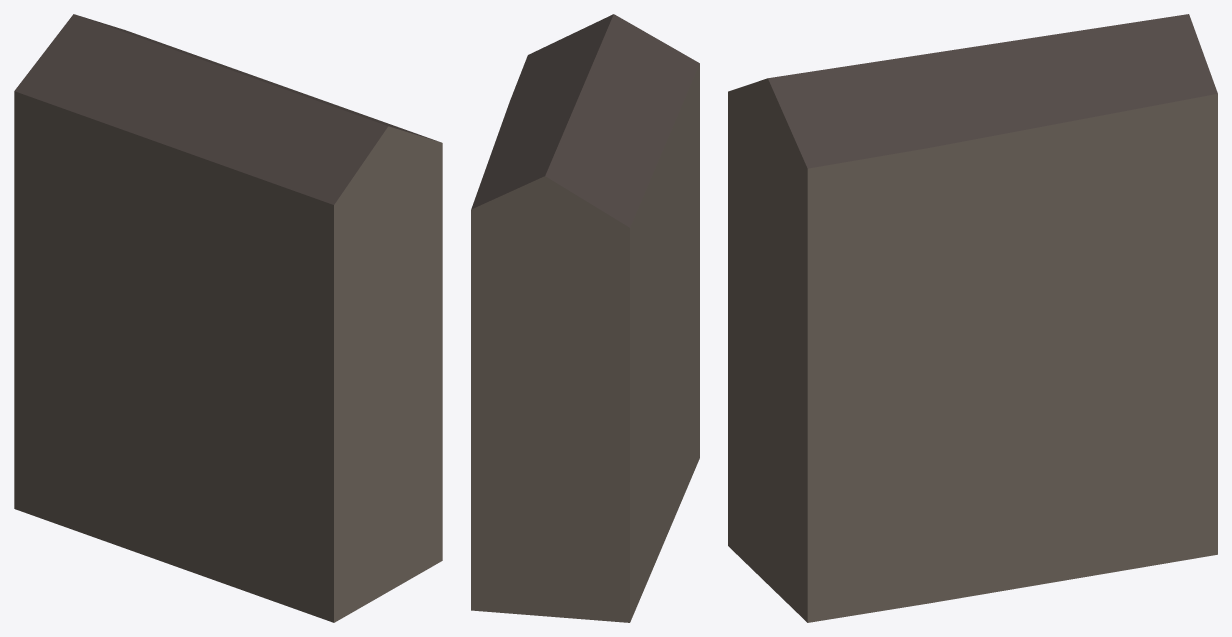
The picture shows the model from 3 angles, left to right: view 1: azimuth 30°, elevation 25°; view 2: azimuth 150°, elevation 25°; view 3: azimuth 270°, elevation 25°; orthographic projection. The views are drawn at different scales.
Parts seen in each view (by area): view 1: HP-w783664815; view 2: HP-w783664815; view 3: HP-w783664815.
Boxes of the visible parts, x1=… form: HP-w783664815: x1=14, y1=14, x2=442, y2=622; HP-w783664815: x1=471, y1=14, x2=699, y2=622; HP-w783664815: x1=728, y1=14, x2=1217, y2=622.
Bounding box in the file's own units: 4.03 × 6.69 × 5.87.
